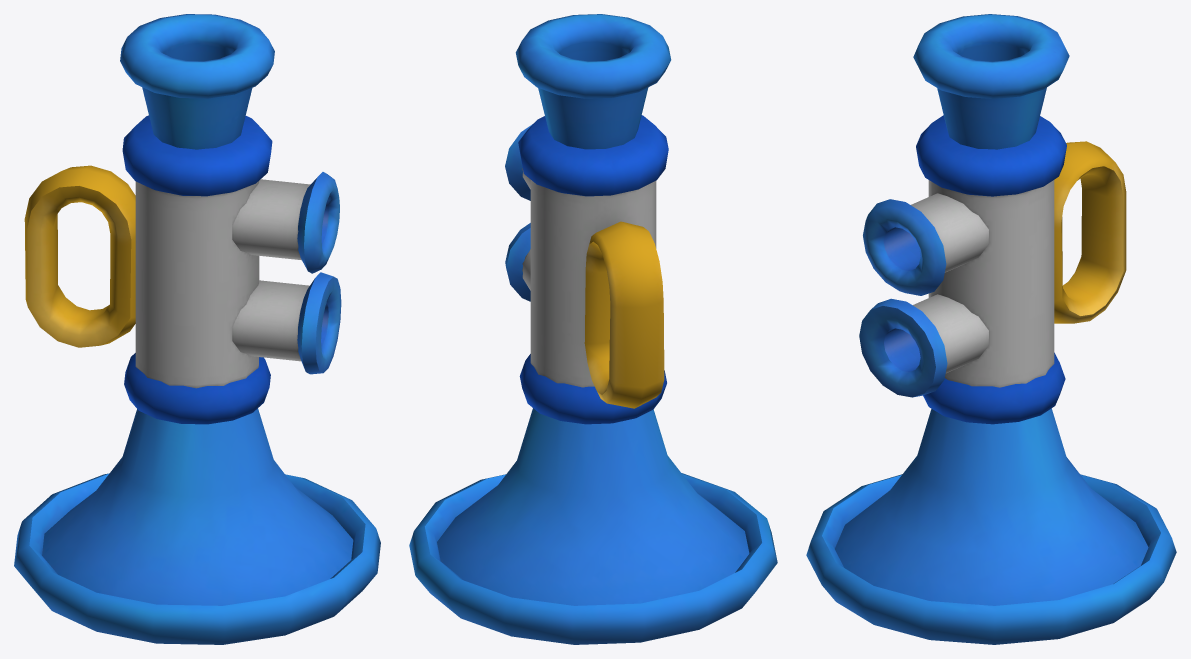
Rendered from 0-trumpet_blue.fbx.
The picture shows the model from 3 angles, left to right: view 1: azimuth 30°, elevation 25°; view 2: azimuth 150°, elevation 25°; view 3: azimuth 270°, elevation 25°; orthographic projection.
Visible parts, largest first — view 1: 0-trumpet_blue; view 2: 0-trumpet_blue; view 3: 0-trumpet_blue.
Boxes of the visible parts, <box> form: 0-trumpet_blue: <box>14,14,380,644</box>; 0-trumpet_blue: <box>409,14,777,644</box>; 0-trumpet_blue: <box>806,14,1176,644</box>.
Bounding box in the file's own units: 61.42 × 97.71 × 61.42.
